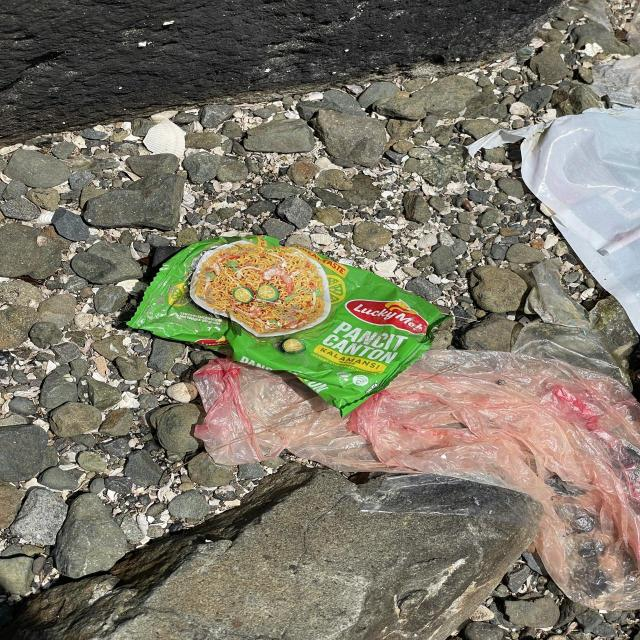plastic_waste: (126, 235, 457, 421)
